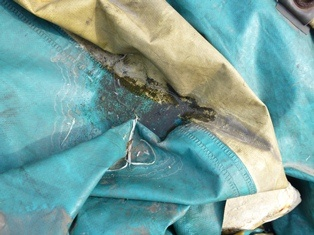plastic_bag: (1, 1, 314, 235)
